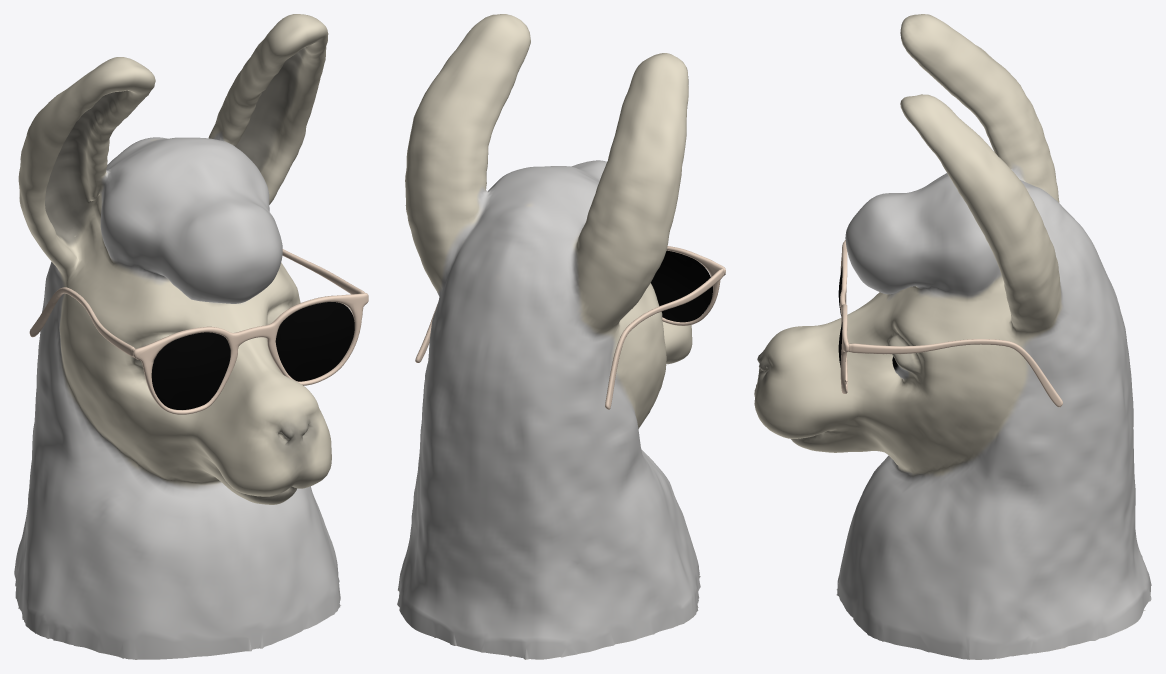
Rendered from lamaaa.gltf.
3 views of the same model, side by side, from view 1: azimuth 30°, elevation 25°; view 2: azimuth 150°, elevation 25°; view 3: azimuth 270°, elevation 25° (orthographic). The views are drawn at different scales.
Parts seen in each view (by area): view 1: Plane.005; view 2: Plane.005; view 3: Plane.005.
Part boxes in pixels (x1=…): Plane.005: x1=14, y1=14, x2=368, y2=659; Plane.005: x1=397, y1=14, x2=725, y2=659; Plane.005: x1=754, y1=14, x2=1151, y2=659.
Size of the model in its own units: 0.0964 by 0.1785 by 0.1198.
3 materials, 1 textured.
